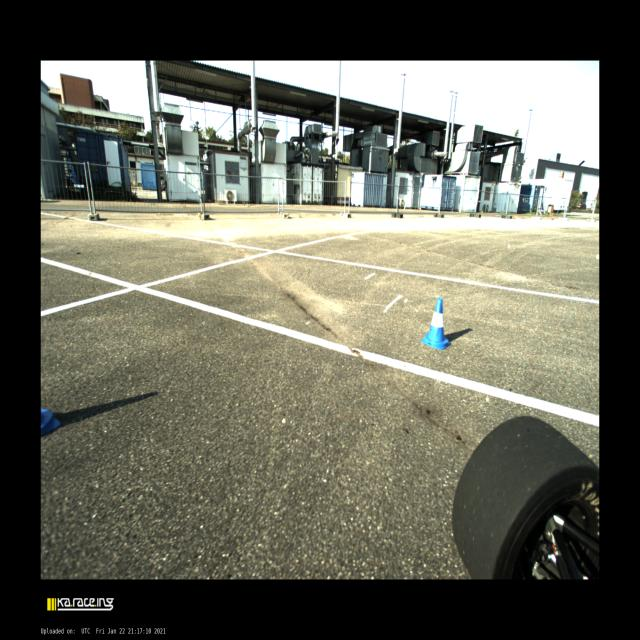blue_cone: (420, 297, 451, 350)
